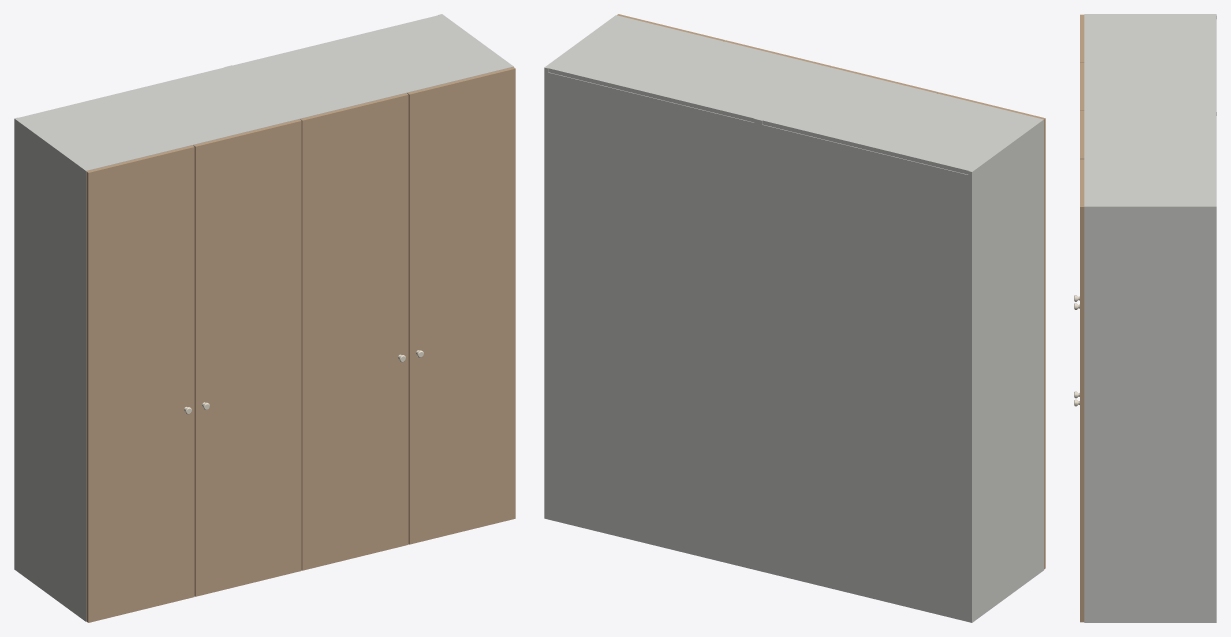
The model's file is loft-wardrobes-palmers-green.glb.
3 renders of one model, left to right at view 1: azimuth 30°, elevation 25°; view 2: azimuth 150°, elevation 25°; view 3: azimuth 270°, elevation 25°, orthographic. The views are drawn at different scales.
Visible parts, largest first — view 1: Door 1 (hinged left), Door 4 (hinged right), Door 2 (hinged right), Door 3 (hinged left), Frame left: Side left, Frame right: Top, Frame left: Top; view 2: Frame left: Back, Frame right: Back, Frame left: Side left, Frame left: Top, Frame right: Top, Frame right: Side left, Frame right: Side right, Frame left: Side right, Door 1 (hinged left); view 3: Frame right: Side right, Frame left: Top, Frame right: Top, Door 4 (hinged right), Frame left: Side right, Frame left: Side left, Frame right: Side left, Door 1 (hinged left), Door 2 (hinged right), Door 3 (hinged left).
Boxes of the visible parts, x1=… form: Door 1 (hinged left): x1=86, y1=145, x2=194, y2=622; Door 4 (hinged right): x1=407, y1=67, x2=515, y2=544; Door 2 (hinged right): x1=193, y1=119, x2=301, y2=596; Door 3 (hinged left): x1=300, y1=93, x2=408, y2=570; Frame left: Side left: x1=14, y1=117, x2=89, y2=621; Frame right: Top: x1=232, y1=15, x2=509, y2=117; Frame left: Top: x1=19, y1=67, x2=295, y2=170; Frame left: Back: x1=762, y1=124, x2=968, y2=621; Frame right: Back: x1=548, y1=72, x2=754, y2=569; Frame left: Side left: x1=968, y1=118, x2=1043, y2=622; Frame left: Top: x1=762, y1=68, x2=1039, y2=174; Frame right: Top: x1=548, y1=16, x2=825, y2=122; Frame right: Side left: x1=754, y1=66, x2=829, y2=570; Frame right: Side right: x1=544, y1=15, x2=619, y2=519; Frame left: Side right: x1=758, y1=67, x2=833, y2=571; Door 1 (hinged left): x1=938, y1=92, x2=1045, y2=569; Frame right: Side right: x1=1084, y1=205, x2=1216, y2=622; Frame left: Top: x1=1084, y1=15, x2=1215, y2=108; Frame right: Top: x1=1084, y1=112, x2=1215, y2=204; Door 4 (hinged right): x1=1080, y1=159, x2=1084, y2=622; Frame left: Side right: x1=1084, y1=108, x2=1216, y2=110; Frame left: Side left: x1=1084, y1=14, x2=1216, y2=19; Frame right: Side left: x1=1084, y1=110, x2=1216, y2=115; Door 1 (hinged left): x1=1080, y1=14, x2=1084, y2=62; Door 2 (hinged right): x1=1080, y1=62, x2=1084, y2=110; Door 3 (hinged left): x1=1080, y1=111, x2=1084, y2=159.
Bounding box in the file's own units: 2 × 2.01 × 0.623.
